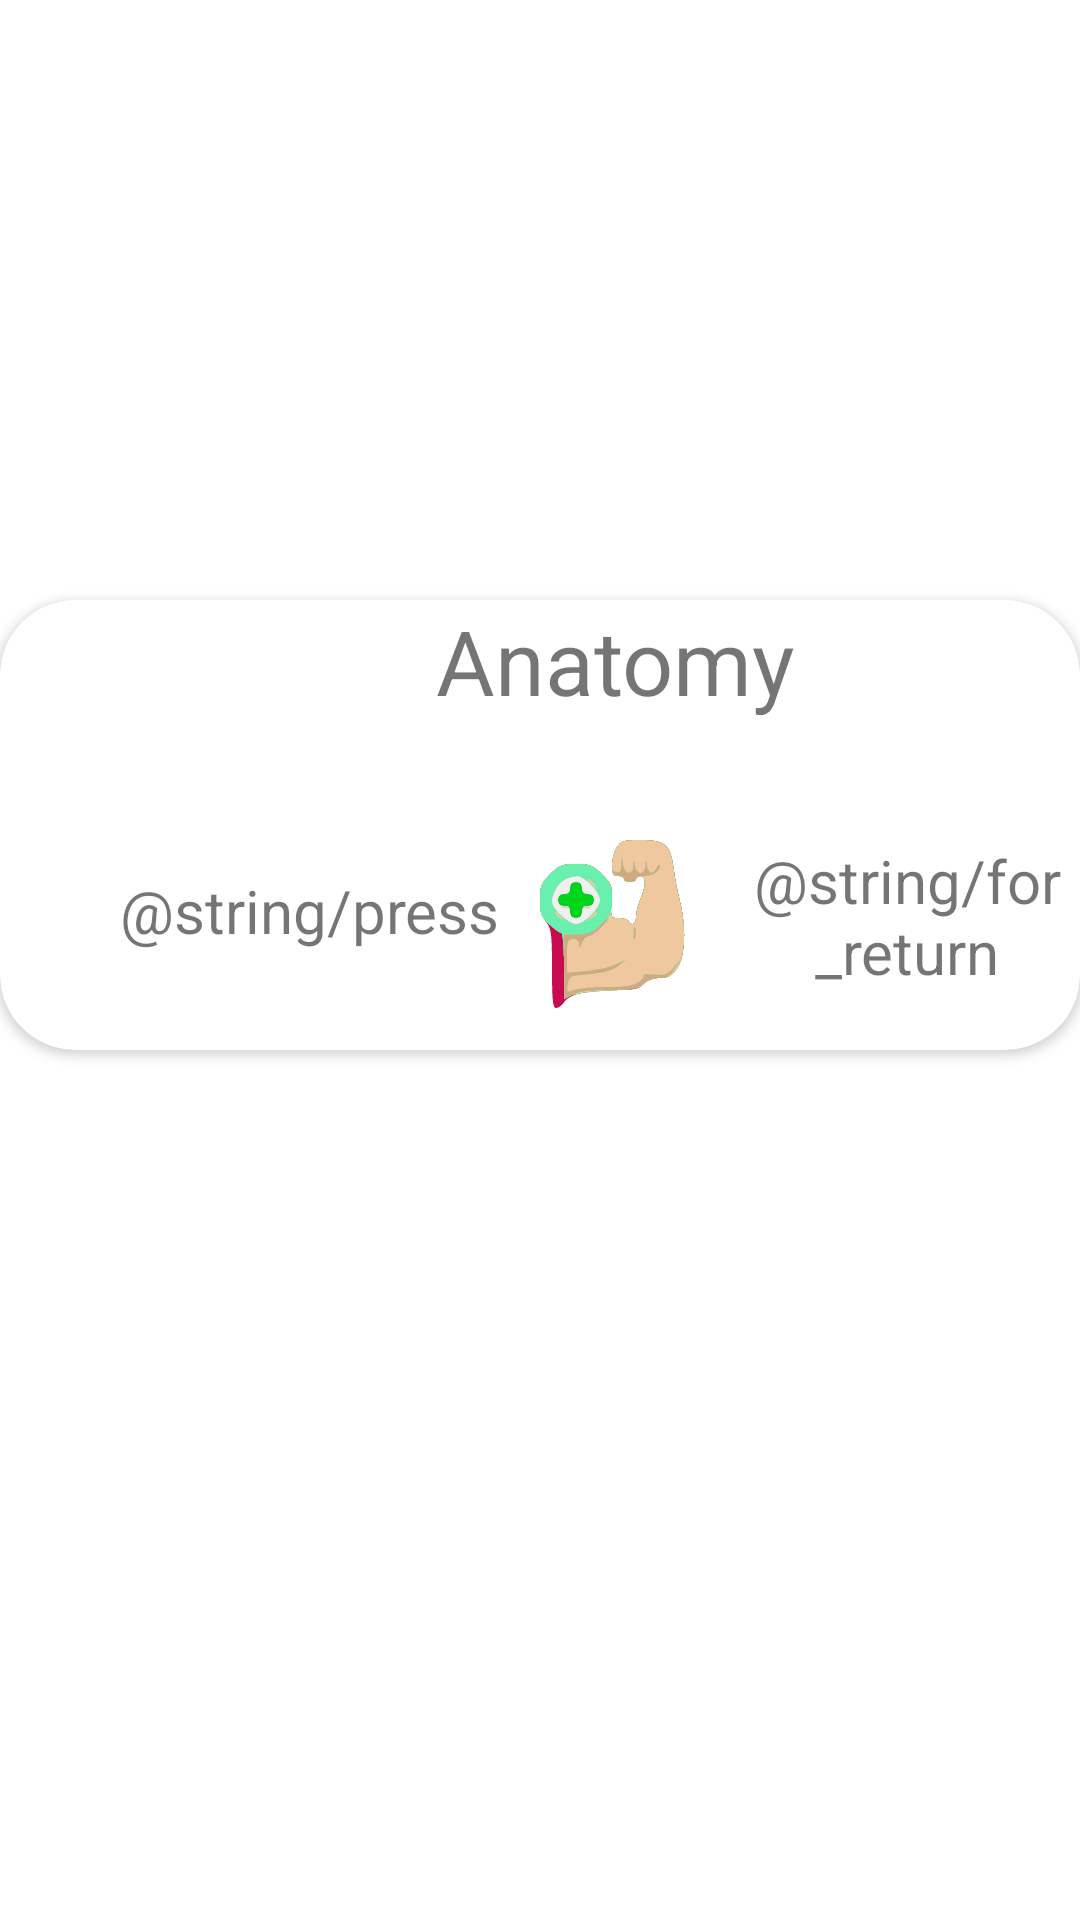

Locate icon controls on the screen. Image size 1080×1920, boxes as (x1, y1, x2, y2).
muscle: (540, 840, 685, 1008)
